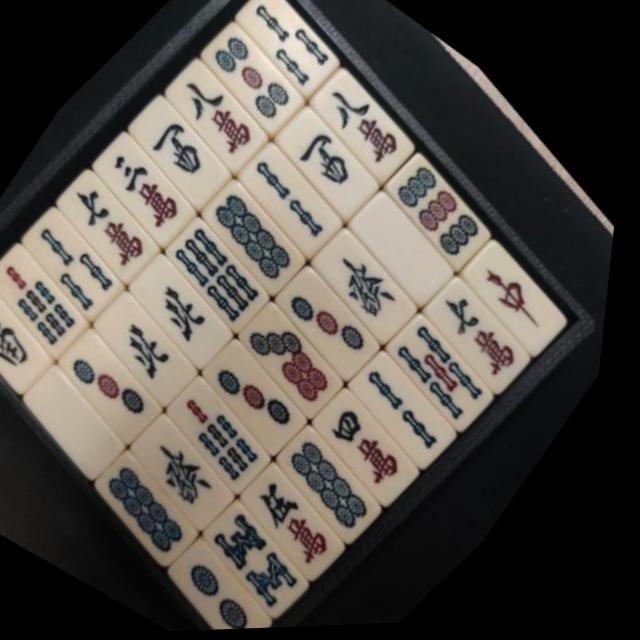hdg: (305, 221, 447, 342), (127, 408, 269, 528)
hdr: (459, 233, 599, 352)
hdw: (343, 184, 486, 305), (20, 364, 153, 477)
hwn: (88, 288, 224, 403), (127, 253, 258, 365)
hws: (0, 278, 77, 392)
hww: (263, 100, 405, 219), (116, 90, 253, 206)
sb2: (346, 341, 493, 466), (226, 137, 370, 258)
sb3: (12, 204, 150, 322), (217, 0, 362, 100)
sb5: (381, 304, 530, 431)
sb6: (157, 212, 297, 332)
sb7: (159, 367, 306, 493), (0, 242, 115, 358)
sb8: (203, 493, 349, 618)
sc3: (81, 130, 217, 246)
sc4: (310, 379, 452, 499)
sc5: (238, 455, 383, 578)
sc7: (44, 164, 185, 285), (422, 269, 563, 390)
sc8: (149, 53, 290, 174), (298, 64, 439, 182)
sd2: (174, 535, 308, 633)
sd3: (196, 331, 341, 454), (270, 259, 411, 378), (53, 326, 189, 442)
sd5: (186, 16, 325, 136)
sd7: (233, 294, 379, 419)
sd8: (275, 417, 419, 540), (191, 174, 332, 294), (94, 446, 234, 565)
sd9: (376, 146, 518, 266)
